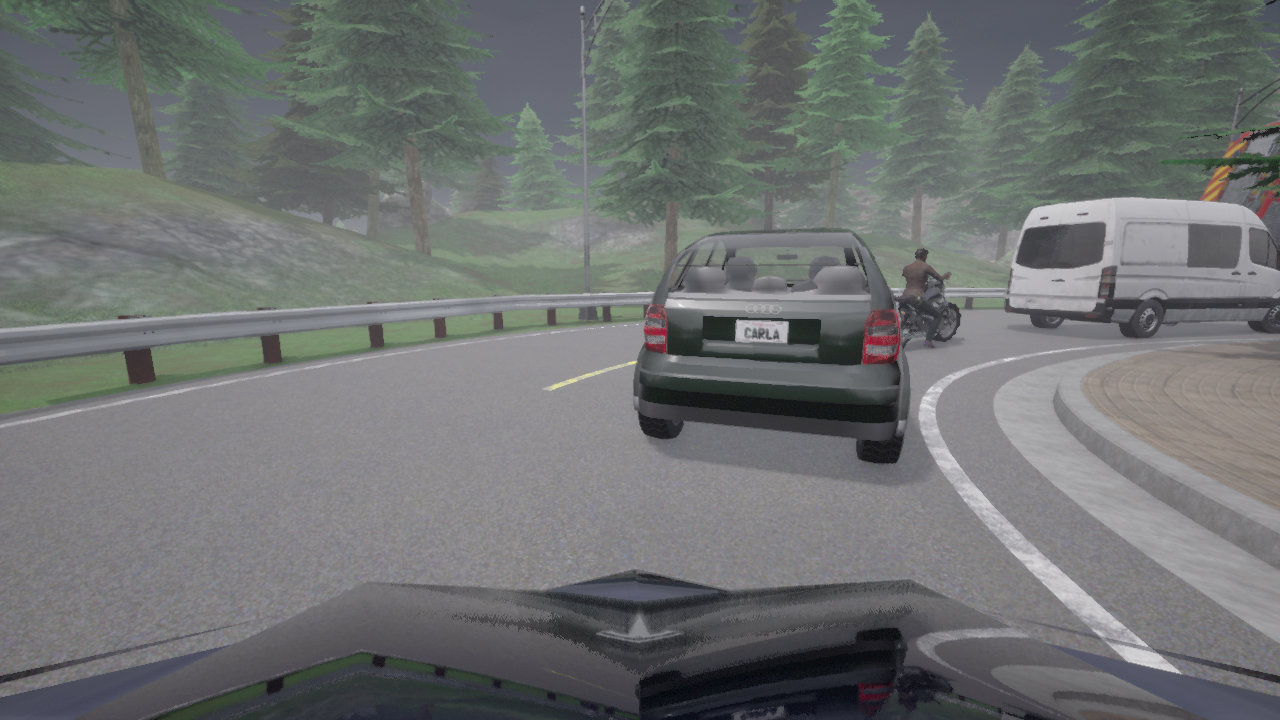cyclist: (0, 569, 1279, 719), (633, 228, 910, 463), (1005, 197, 1279, 338), (1199, 111, 1279, 249), (894, 271, 961, 348)
